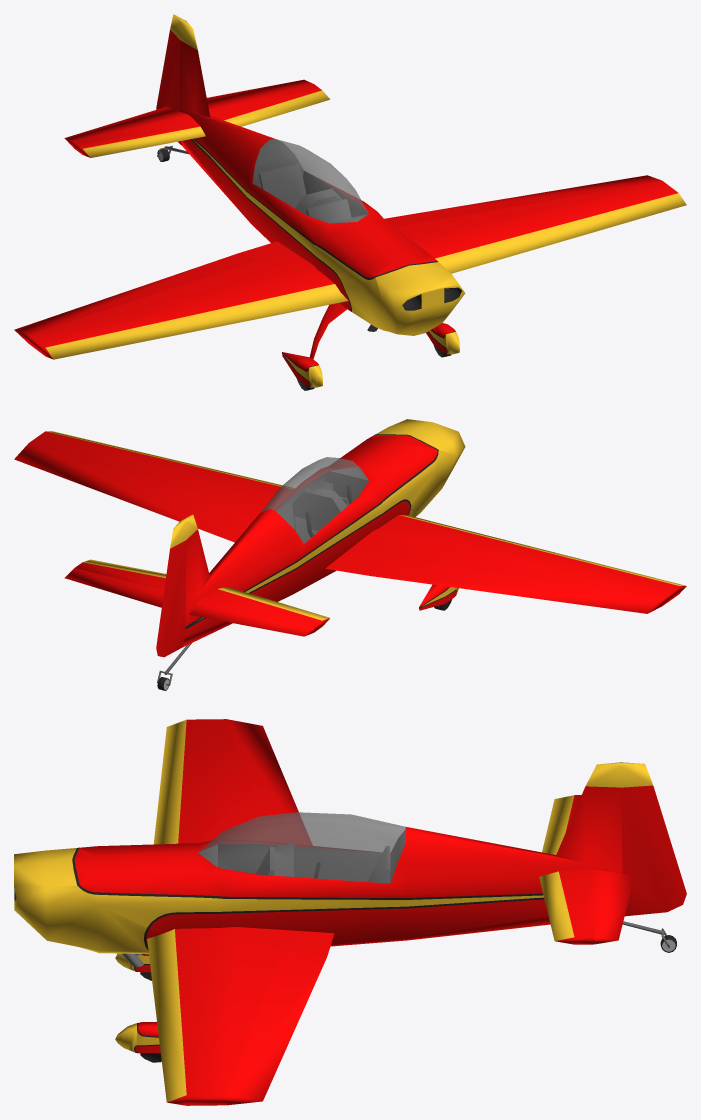
The model's file is body.obj.
3 views of the same model, one above another, from view 1: azimuth 30°, elevation 25°; view 2: azimuth 150°, elevation 25°; view 3: azimuth 270°, elevation 25° (orthographic). The views are drawn at different scales.
Visible parts, largest first — view 1: Mesh6 Group4 Model, Mesh2 Group2 Model, Mesh3 Group2 Model, Mesh8 Group6 Model, Mesh4 Group3 Model, Mesh10 Group7 Model, Mesh5 Group3 Model, Mesh1 Group1 Model, Mesh17 Model, Mesh18 Model, Mesh9 Group7 Model; view 2: Mesh6 Group4 Model, Mesh2 Group2 Model, Mesh3 Group2 Model, Mesh8 Group6 Model, Mesh4 Group3 Model, Mesh10 Group7 Model, Mesh1 Group1 Model, Mesh5 Group3 Model, Mesh17 Model; view 3: Mesh6 Group4 Model, Mesh3 Group2 Model, Mesh2 Group2 Model, Mesh8 Group6 Model, Mesh1 Group1 Model, Mesh5 Group3 Model, Mesh10 Group7 Model, Mesh18 Model, Mesh4 Group3 Model.
Boxes of the visible parts, x1,y1,x2,y2 form: Mesh6 Group4 Model: (179,40,465,335); Mesh2 Group2 Model: (14,241,348,359); Mesh3 Group2 Model: (384,175,686,273); Mesh8 Group6 Model: (252,139,368,223); Mesh4 Group3 Model: (64,106,205,157); Mesh10 Group7 Model: (252,139,368,223); Mesh5 Group3 Model: (206,79,330,126); Mesh1 Group1 Model: (156,14,197,145); Mesh17 Model: (282,352,322,390); Mesh18 Model: (426,323,459,357); Mesh9 Group7 Model: (306,199,351,223); Mesh6 Group4 Model: (182,419,465,647); Mesh2 Group2 Model: (325,515,686,613); Mesh3 Group2 Model: (14,431,294,542); Mesh8 Group6 Model: (261,457,368,543); Mesh4 Group3 Model: (189,587,329,636); Mesh10 Group7 Model: (276,467,368,543); Mesh1 Group1 Model: (156,514,197,657); Mesh5 Group3 Model: (64,559,166,607); Mesh17 Model: (419,584,458,610); Mesh6 Group4 Model: (14,786,622,954); Mesh3 Group2 Model: (147,927,334,1105); Mesh2 Group2 Model: (153,719,312,845); Mesh8 Group6 Model: (198,812,405,883); Mesh1 Group1 Model: (586,762,686,916); Mesh5 Group3 Model: (539,869,634,944); Mesh10 Group7 Model: (198,830,405,883); Mesh18 Model: (115,1022,161,1062); Mesh4 Group3 Model: (542,795,581,854).
Bounding box in the file's own units: 8 × 2.55 × 6.06.
